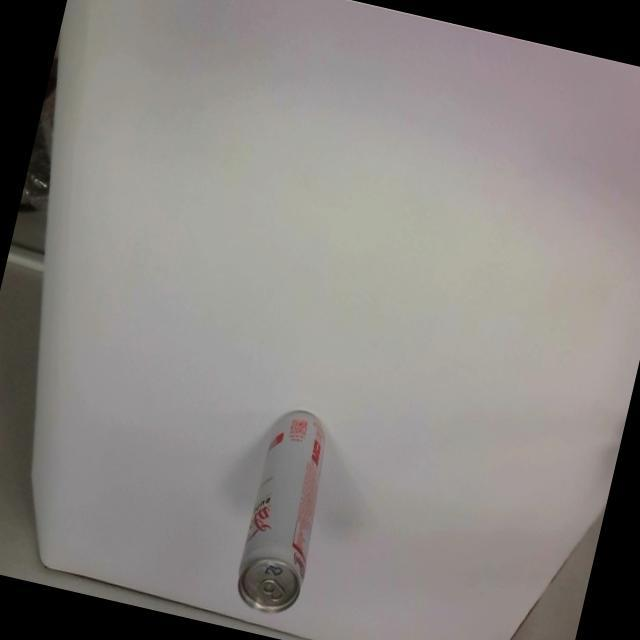debris: (228, 402, 340, 620)
